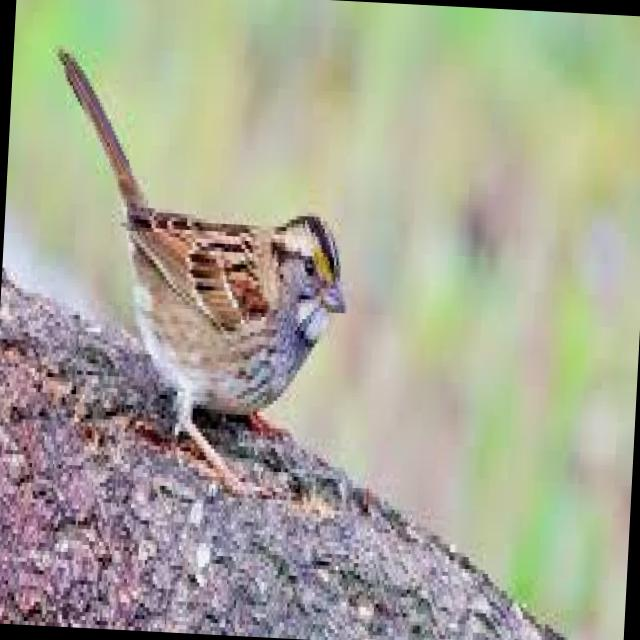bird: (33, 38, 364, 508)
